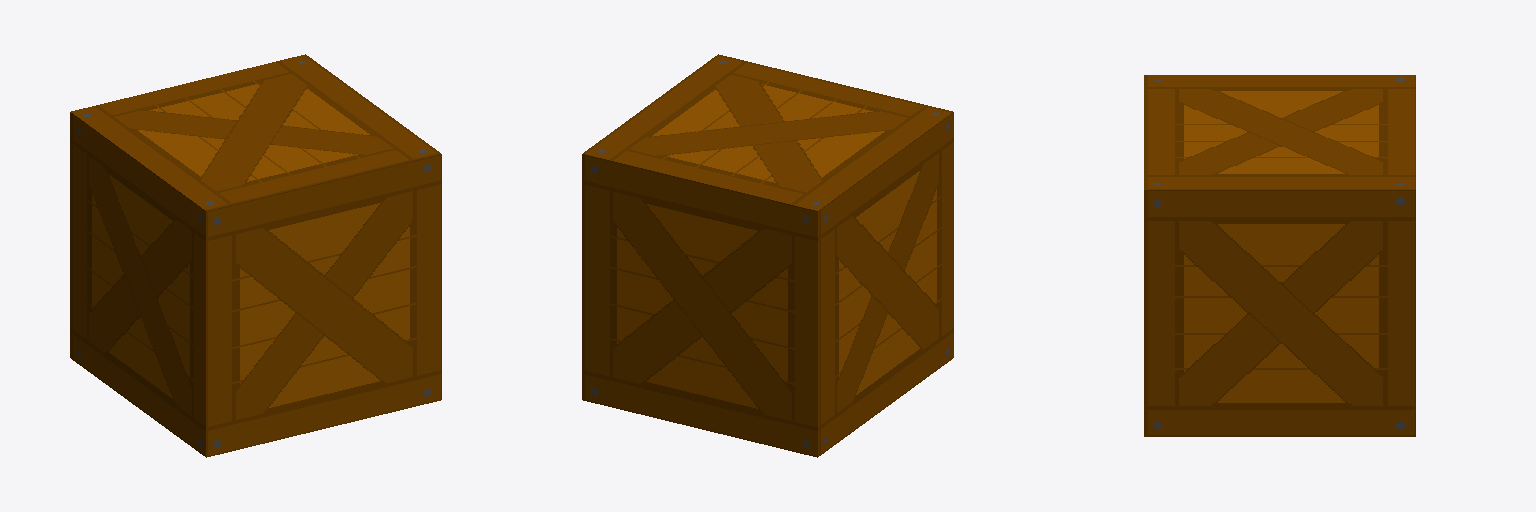
3 renders of one model, left to right at view 1: azimuth 30°, elevation 25°; view 2: azimuth 150°, elevation 25°; view 3: azimuth 270°, elevation 25°, orthographic.
Parts seen in each view (by area): view 1: box.001_Cube.009; view 2: box.001_Cube.009; view 3: box.001_Cube.009.
Part boxes in pixels (bbox=[...]): box.001_Cube.009: bbox=[70, 54, 441, 457]; box.001_Cube.009: bbox=[582, 54, 953, 457]; box.001_Cube.009: bbox=[1144, 75, 1415, 436].
Size of the model in its own units: 2 by 2 by 2.
1 materials, 1 textured.